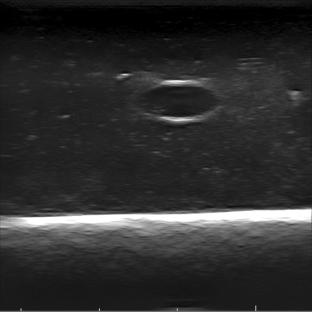vessel: (134, 78, 221, 123)
